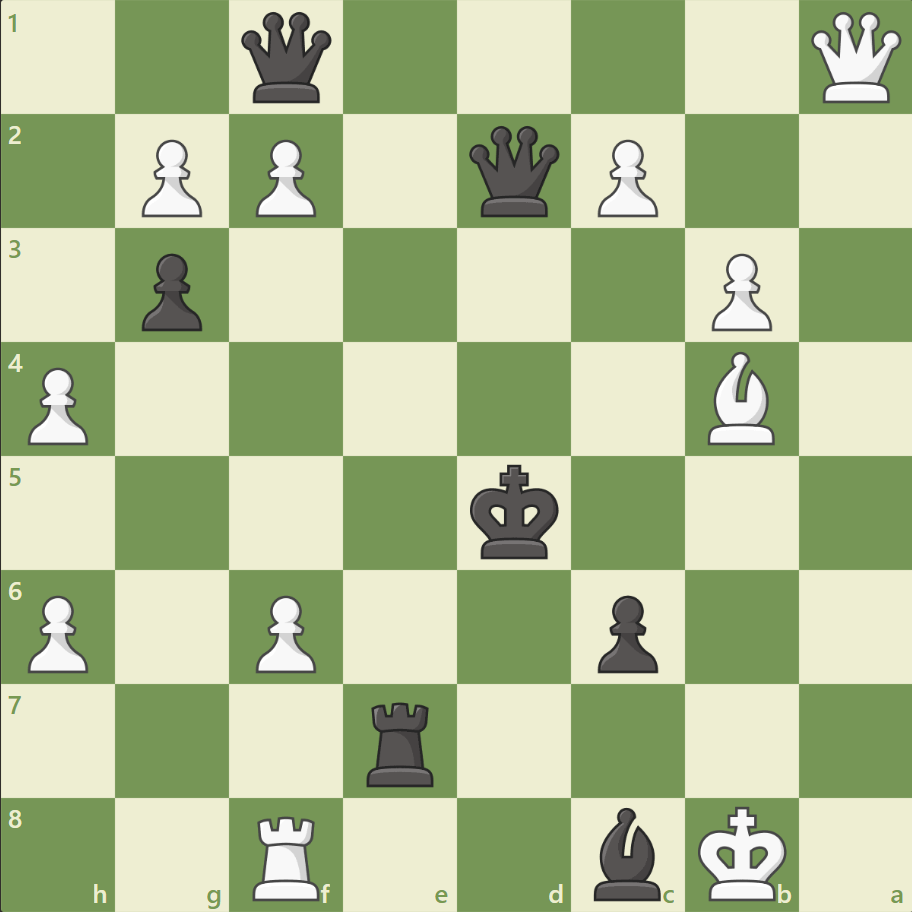B: (698, 347, 782, 449)
K: (692, 798, 792, 906)
P: (247, 586, 322, 677), (20, 586, 95, 677), (20, 359, 95, 450), (701, 246, 776, 337), (247, 132, 322, 223), (133, 132, 208, 223), (588, 132, 662, 223)
Q: (805, 9, 904, 108)
R: (246, 806, 329, 904)
b: (585, 801, 669, 904)
k: (465, 458, 565, 566)
p: (133, 246, 208, 337), (588, 586, 662, 677)
q: (464, 122, 563, 222), (237, 9, 336, 108)
r: (360, 693, 442, 790)
